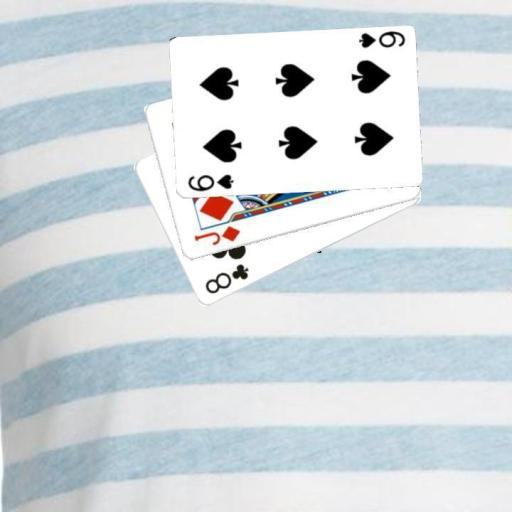card-corner: (202, 261, 250, 296), (190, 222, 242, 248), (184, 172, 236, 194), (356, 28, 406, 50)
